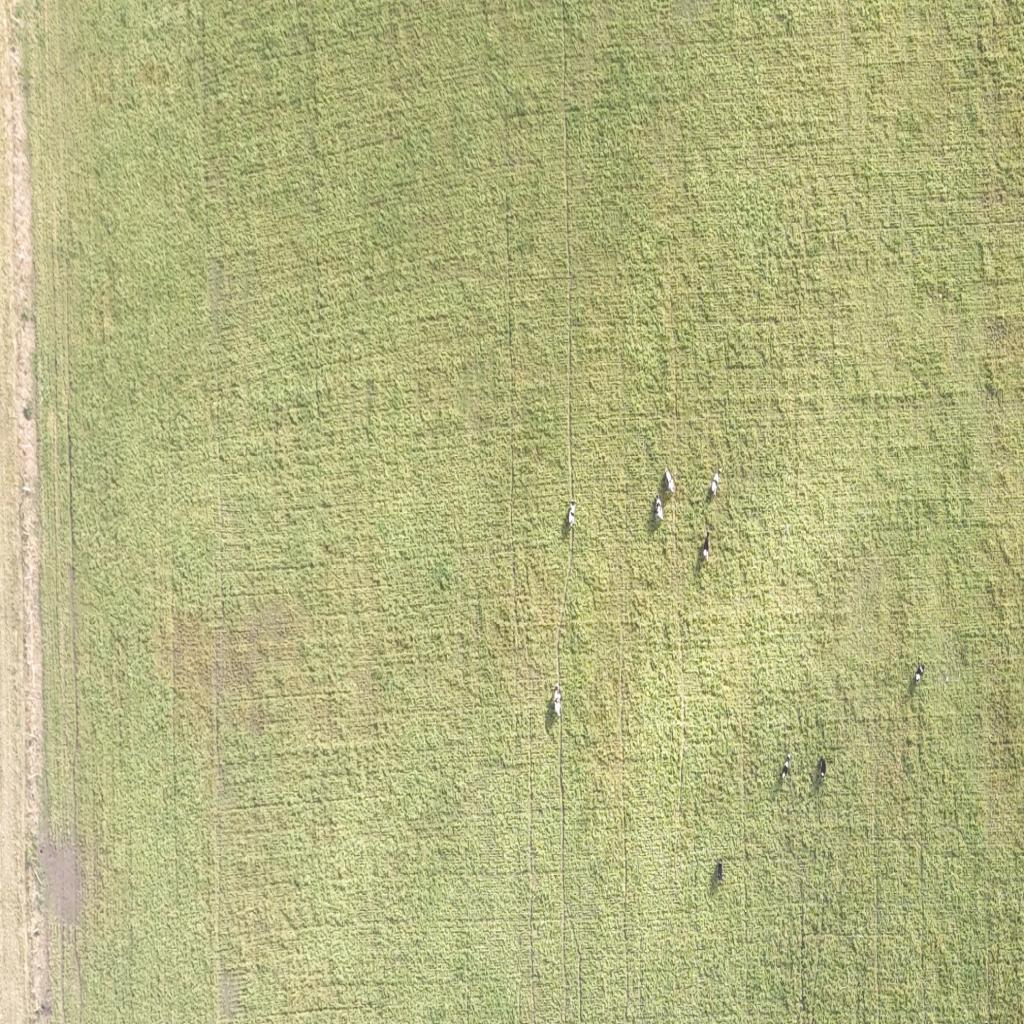cow: (663, 468, 674, 496), (553, 684, 562, 718), (701, 532, 710, 562), (654, 494, 664, 520), (781, 753, 791, 779), (711, 470, 720, 496), (568, 500, 576, 528), (914, 663, 924, 684), (818, 756, 826, 779), (717, 863, 723, 883), (786, 752, 792, 766)
